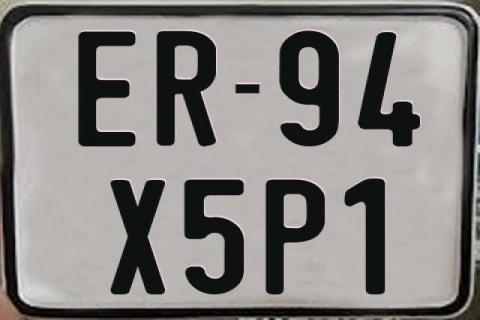0: (182, 178, 248, 298), (356, 30, 421, 150), (276, 28, 337, 144), (341, 177, 387, 297)
E: (78, 31, 137, 148)
P: (263, 177, 325, 295)
R: (154, 30, 218, 148)
X: (107, 177, 168, 293)
